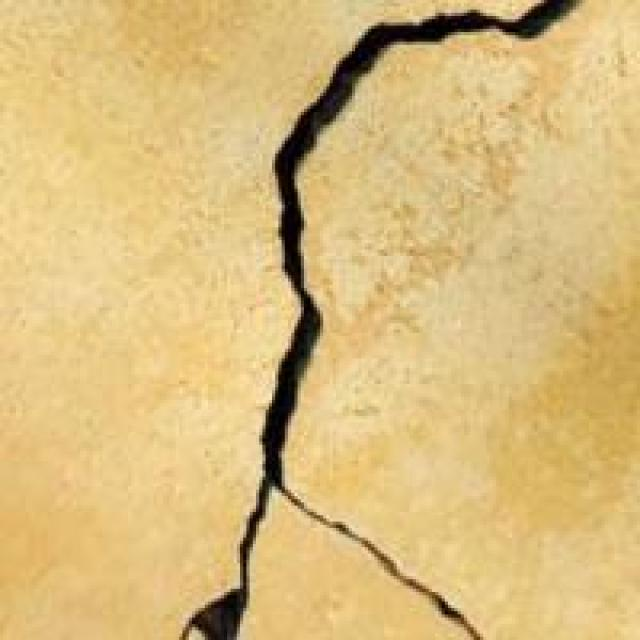Crack: (182, 3, 637, 637)
